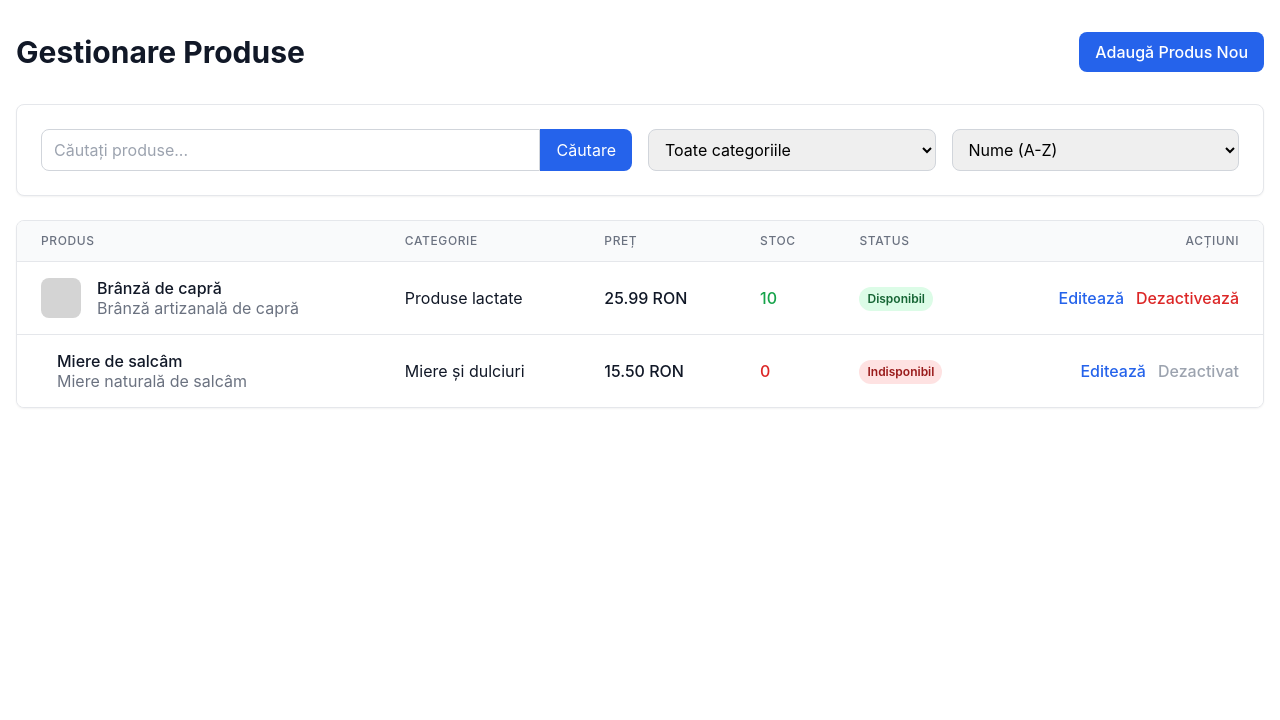
Scenario: ProductManager Component › Product Creation › closes modal when cancel button is clicked
# Open modal
Click the button "Adaugă Produs Nou". click: (1172, 52)
box: [1079,32,1264,72]
(page scrolled)
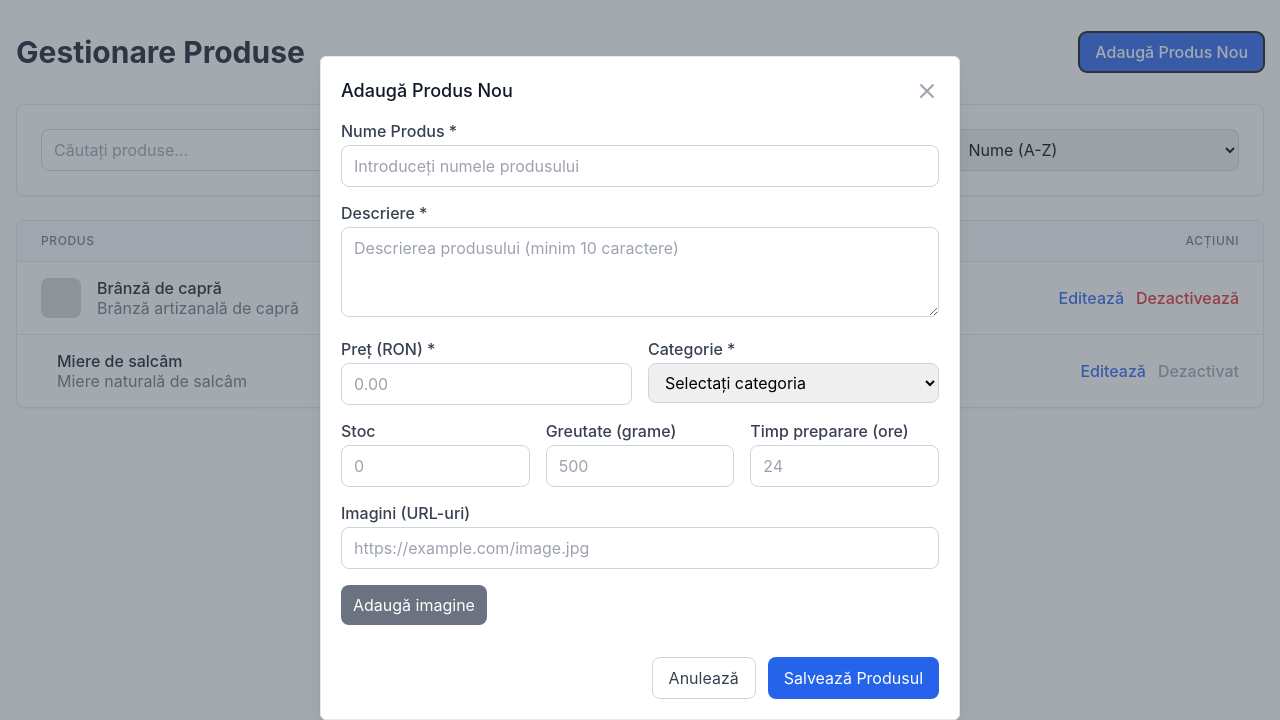
# Close modal
Click the button "Anulează". click: (704, 678)
box: [652,657,756,699]
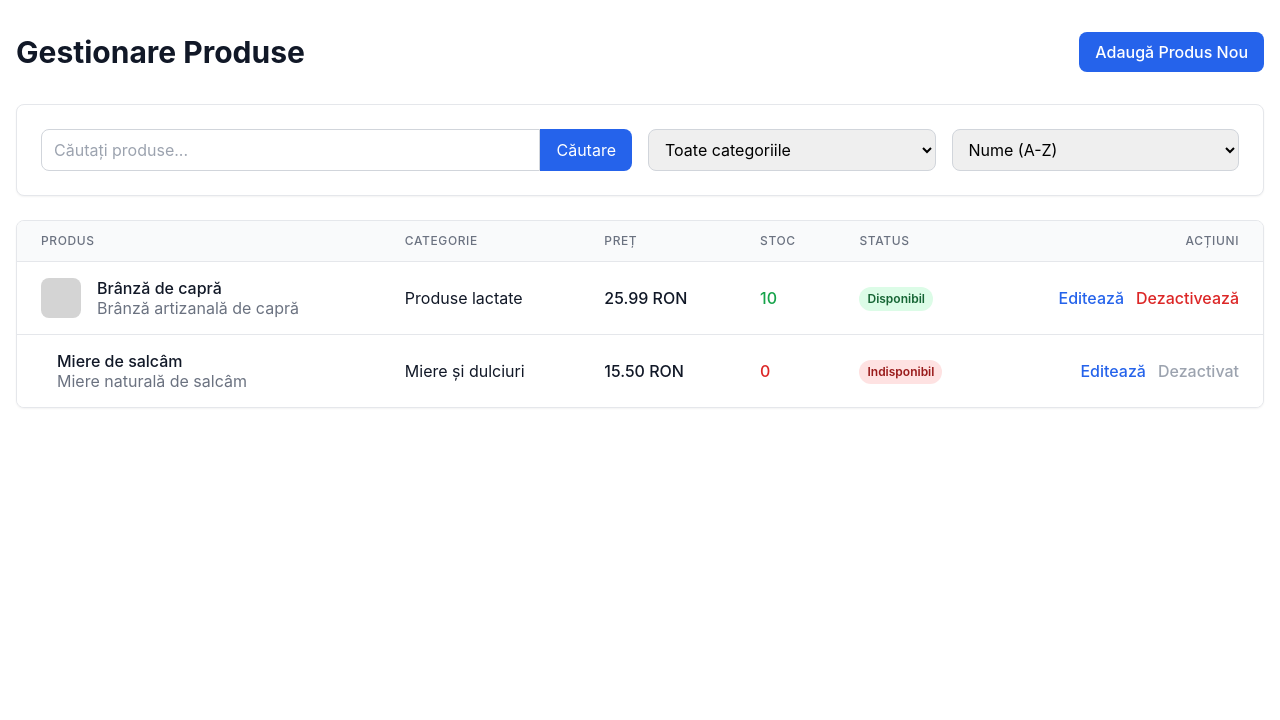
Expected: the label labelled "Nume Produs" is gone
